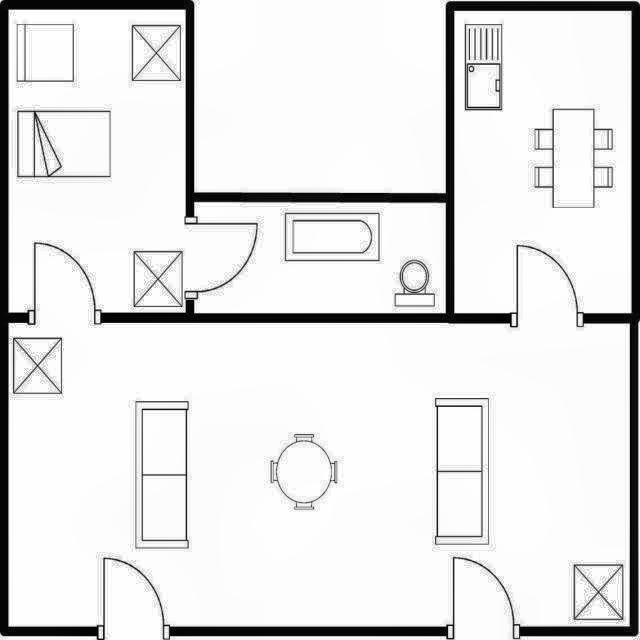room: (8, 323, 630, 627), (8, 10, 186, 313), (454, 11, 631, 313), (194, 202, 446, 313)
